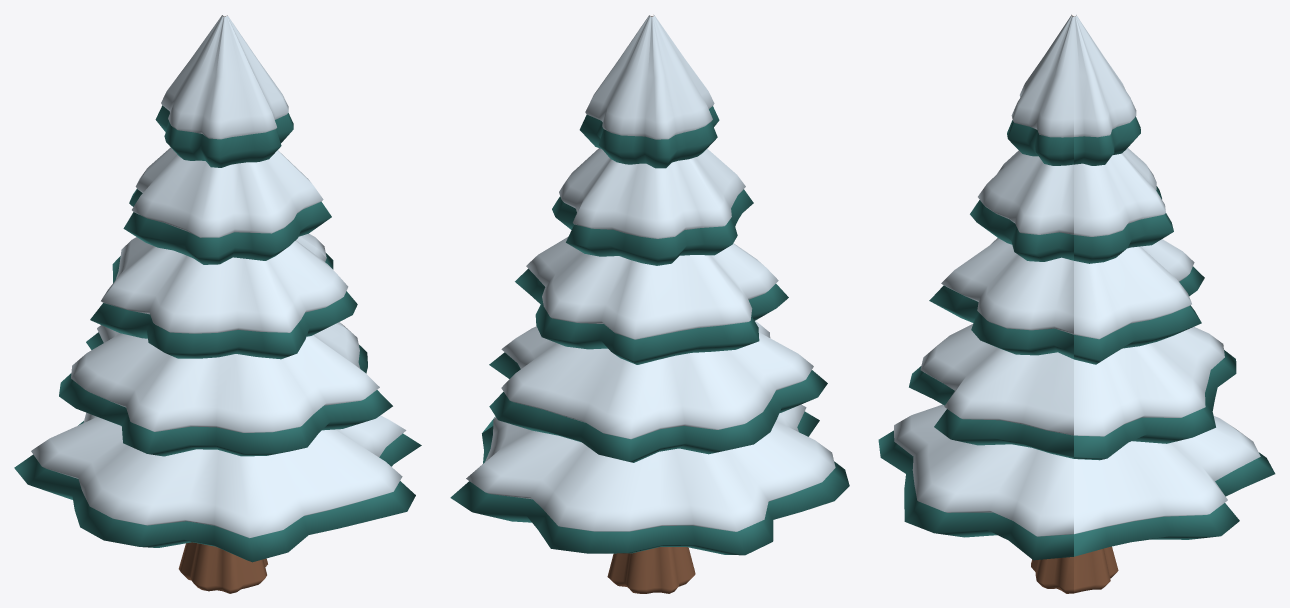
File: pine_1.glb
3 renders of one model, left to right at view 1: azimuth 30°, elevation 25°; view 2: azimuth 150°, elevation 25°; view 3: azimuth 270°, elevation 25°, orthographic.
Visible parts, largest first — view 1: snow_mantle_0, snow_mantle_1, snow_mantle_2, snow_mantle_3, branch_crown_0, snow_mantle_4, branch_crown_1, branch_crown_2, branch_crown_3, branch_crown_4, sculpted_trunk; view 2: snow_mantle_0, snow_mantle_1, snow_mantle_2, snow_mantle_3, branch_crown_0, snow_mantle_4, branch_crown_1, branch_crown_2, branch_crown_3, branch_crown_4, sculpted_trunk; view 3: snow_mantle_0, snow_mantle_1, snow_mantle_2, snow_mantle_3, branch_crown_0, snow_mantle_4, branch_crown_1, branch_crown_2, branch_crown_3, branch_crown_4, sculpted_trunk.
Boxes of the visible parts, <box> form: snow_mantle_0: <box>31,412,406,538</box>; snow_mantle_1: <box>71,322,379,432</box>; snow_mantle_2: <box>101,233,348,333</box>; snow_mantle_3: <box>132,147,323,237</box>; branch_crown_0: <box>14,421,421,562</box>; snow_mantle_4: <box>161,15,288,139</box>; branch_crown_1: <box>59,332,392,456</box>; branch_crown_2: <box>90,253,357,359</box>; branch_crown_3: <box>123,189,331,264</box>; branch_crown_4: <box>155,105,293,167</box>; sculpted_trunk: <box>178,15,267,593</box>; snow_mantle_0: <box>466,404,835,531</box>; snow_mantle_1: <box>501,321,813,439</box>; snow_mantle_2: <box>526,237,778,339</box>; snow_mantle_3: <box>559,148,745,238</box>; branch_crown_0: <box>450,411,849,555</box>; snow_mantle_4: <box>585,15,714,139</box>; branch_crown_1: <box>489,352,827,462</box>; branch_crown_2: <box>515,268,788,364</box>; branch_crown_3: <box>552,189,753,265</box>; branch_crown_4: <box>579,106,719,168</box>; sculpted_trunk: <box>607,16,695,593</box>; snow_mantle_0: <box>894,404,1260,536</box>; snow_mantle_1: <box>920,324,1224,436</box>; snow_mantle_2: <box>941,238,1194,339</box>; snow_mantle_3: <box>978,148,1165,236</box>; branch_crown_0: <box>878,430,1275,560</box>; snow_mantle_4: <box>1011,14,1136,137</box>; branch_crown_1: <box>909,350,1236,460</box>; branch_crown_2: <box>929,266,1204,364</box>; branch_crown_3: <box>970,186,1173,263</box>; branch_crown_4: <box>1007,116,1140,165</box>; sculpted_trunk: <box>1031,15,1118,593</box>.
Bounding box in the file's own units: 2.47 × 3.9 × 2.49.
